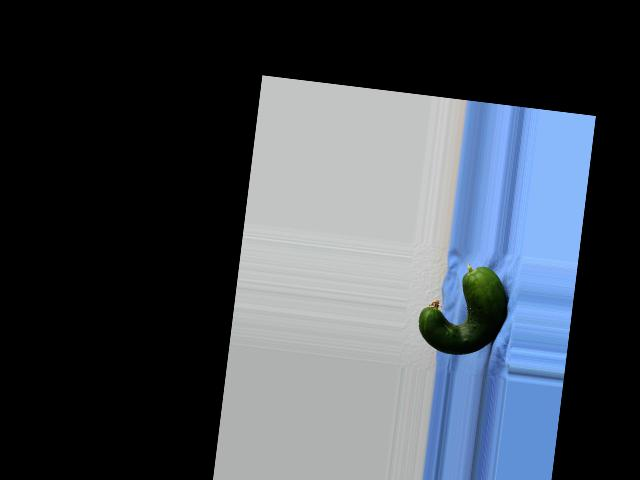cucumber: (415, 259, 511, 360)
